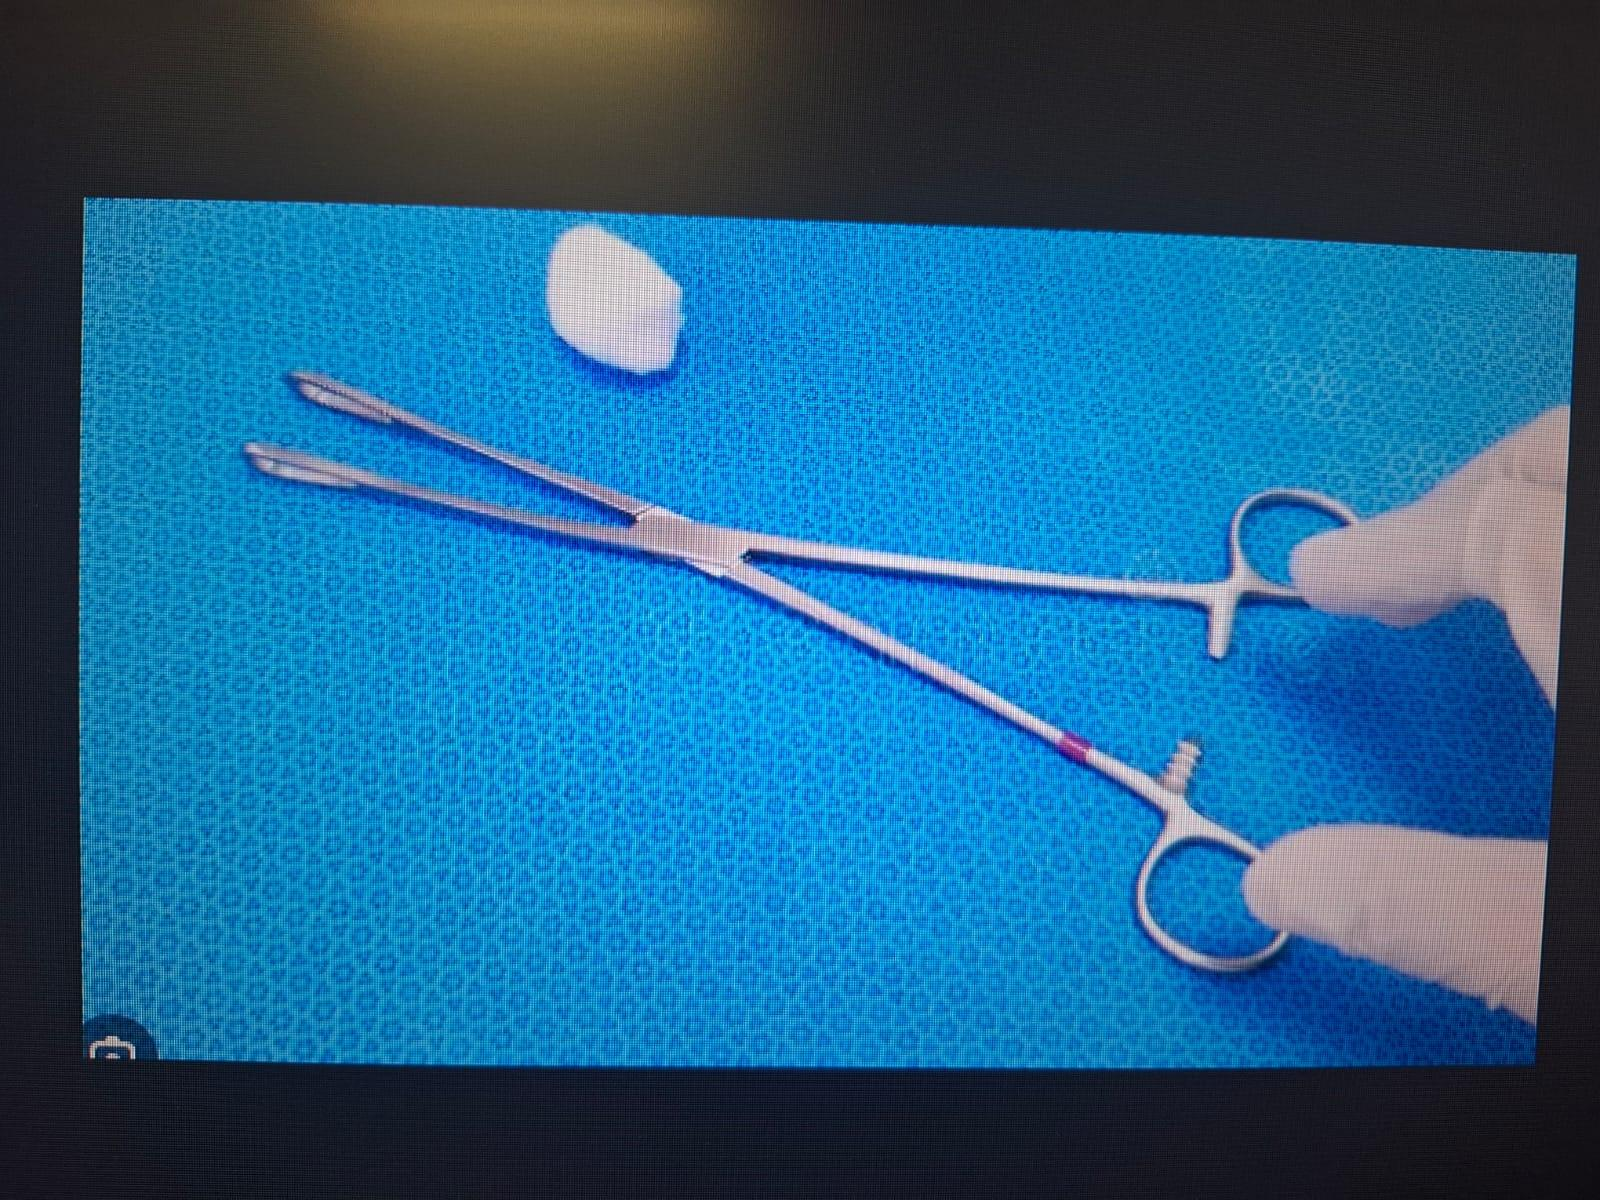Sponge Holding Forceps: (242, 354, 1386, 986)
